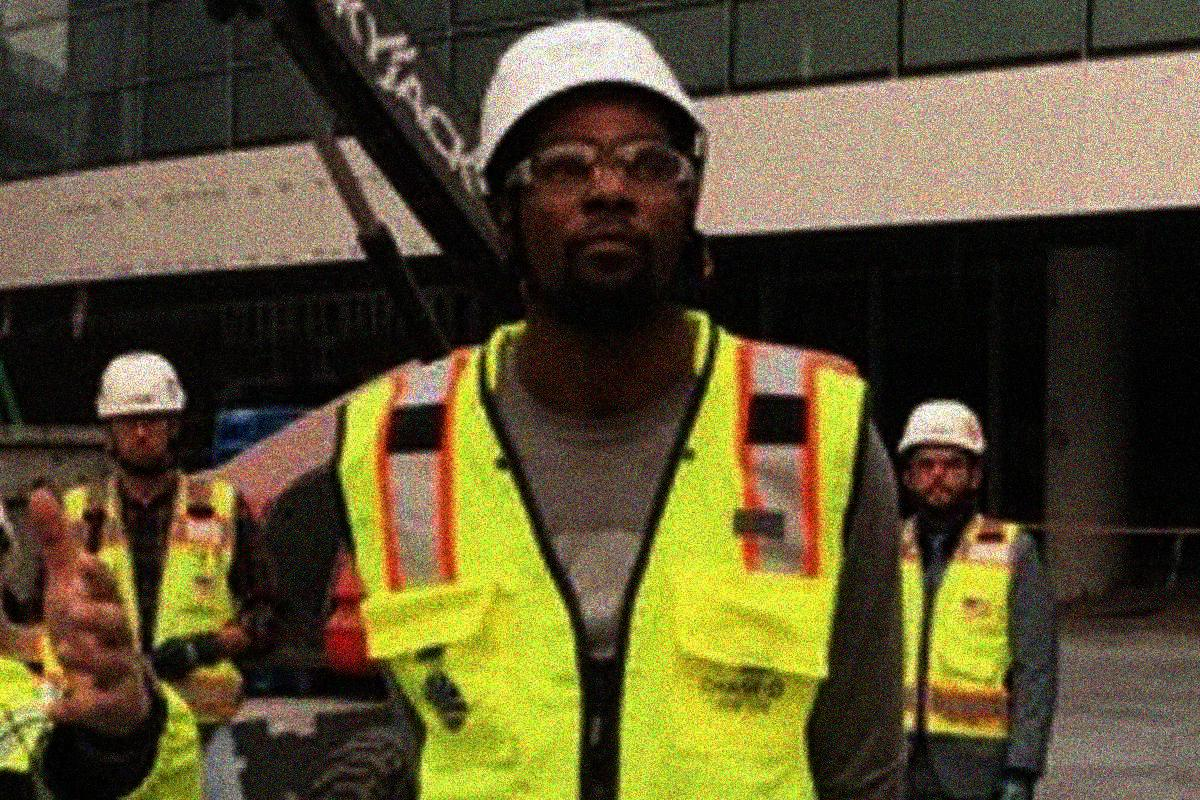helmet: (476, 18, 715, 317), (88, 349, 194, 466), (898, 399, 998, 516)
